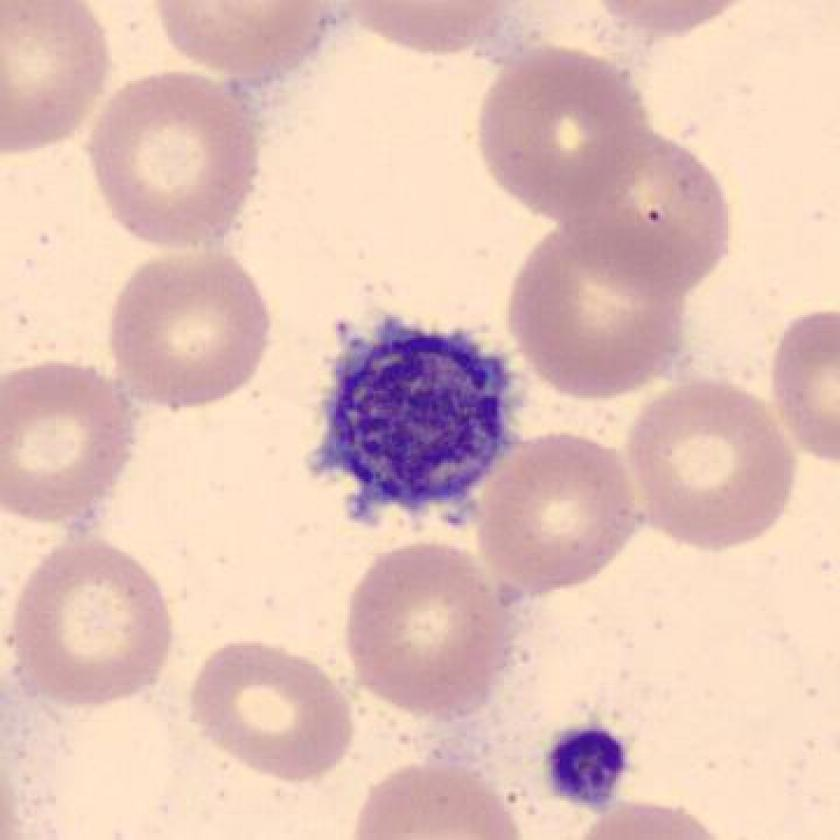platelets: (314, 311, 517, 526), (536, 709, 641, 823)
